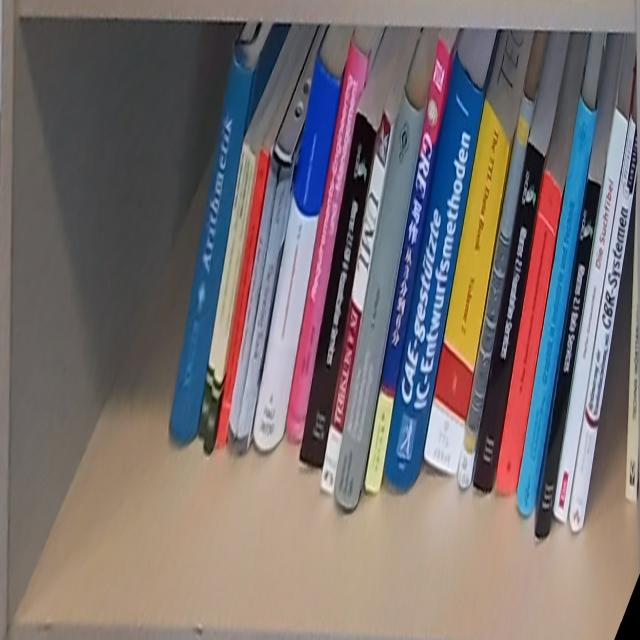Book Spine: (382, 49, 486, 491), (366, 36, 453, 494), (335, 86, 429, 508), (254, 52, 345, 452), (166, 50, 256, 445), (285, 36, 371, 445), (517, 92, 598, 513), (423, 98, 509, 478), (554, 106, 629, 525), (455, 92, 533, 488), (568, 114, 639, 535), (300, 111, 379, 473), (319, 111, 392, 501), (470, 141, 550, 493), (534, 179, 602, 540), (493, 173, 563, 494), (233, 162, 295, 457), (195, 137, 250, 443), (216, 142, 271, 447), (226, 152, 282, 444), (206, 152, 259, 453), (625, 179, 640, 505)
